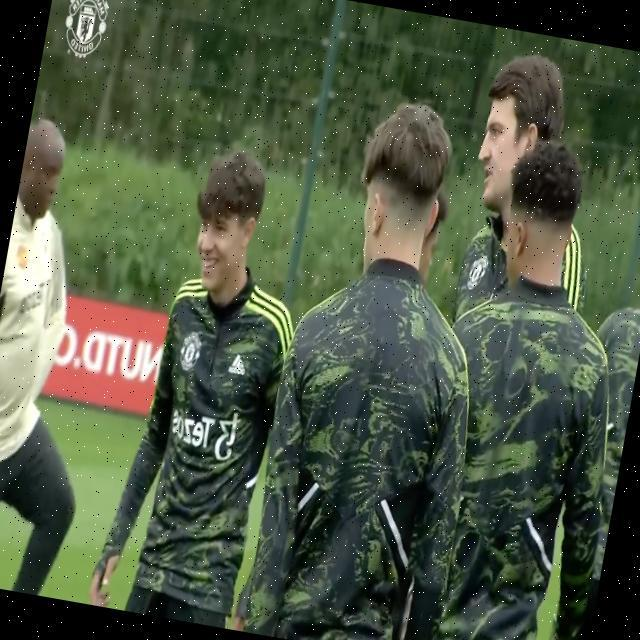Adidas: (225, 349, 248, 379)
